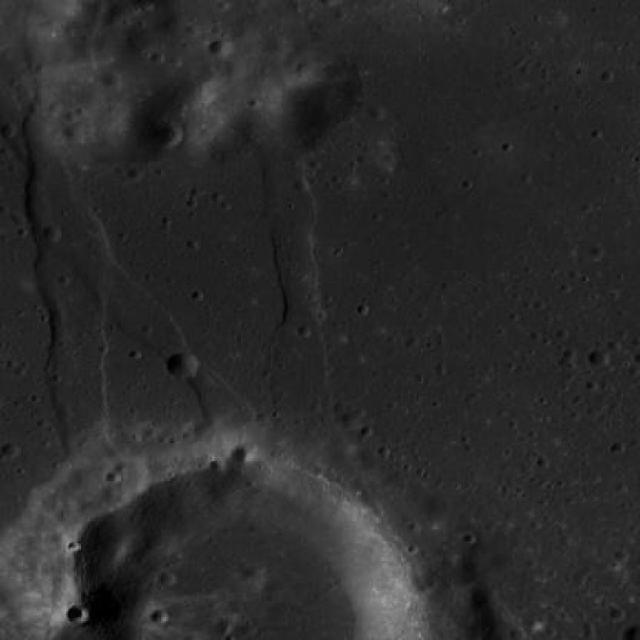crater: (132, 88, 220, 164), (0, 578, 43, 620), (110, 460, 150, 492), (166, 351, 199, 378), (152, 120, 182, 146), (61, 126, 84, 146), (100, 70, 122, 90), (66, 604, 88, 624), (231, 445, 254, 463), (208, 38, 229, 56), (342, 410, 362, 428), (242, 566, 262, 583), (588, 350, 608, 367), (364, 104, 384, 121)
